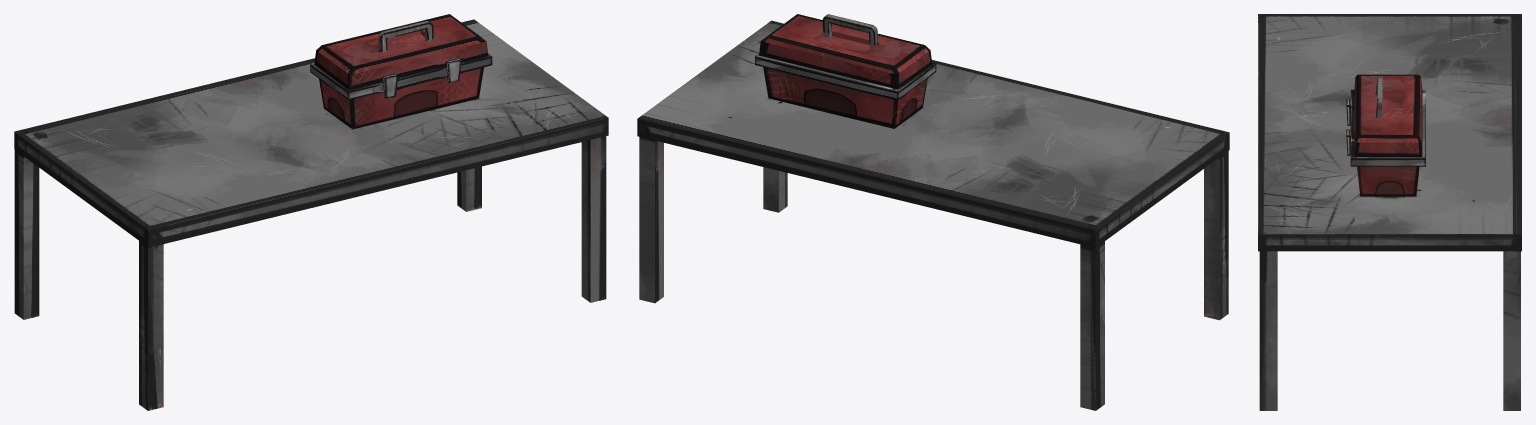
The model's file is Toolbox and Table.glb.
The picture shows the model from 3 angles, left to right: view 1: azimuth 30°, elevation 25°; view 2: azimuth 150°, elevation 25°; view 3: azimuth 270°, elevation 25°; orthographic projection. The views are drawn at different scales.
Visible parts, largest first — view 1: Table, Toolbox; view 2: Table, Toolbox; view 3: Table, Toolbox.
Part boxes in pixels (left/top/right/bottom): Table: left=14, top=19, right=608, bottom=410; Toolbox: left=310, top=14, right=492, bottom=129; Table: left=637, top=20, right=1229, bottom=410; Toolbox: left=755, top=14, right=936, bottom=128; Table: left=1258, top=14, right=1521, bottom=410; Toolbox: left=1346, top=74, right=1425, bottom=196.
Bounding box in the file's own units: 2.14 × 1.16 × 1.09.
Materials: 1 (1 with a texture image).
